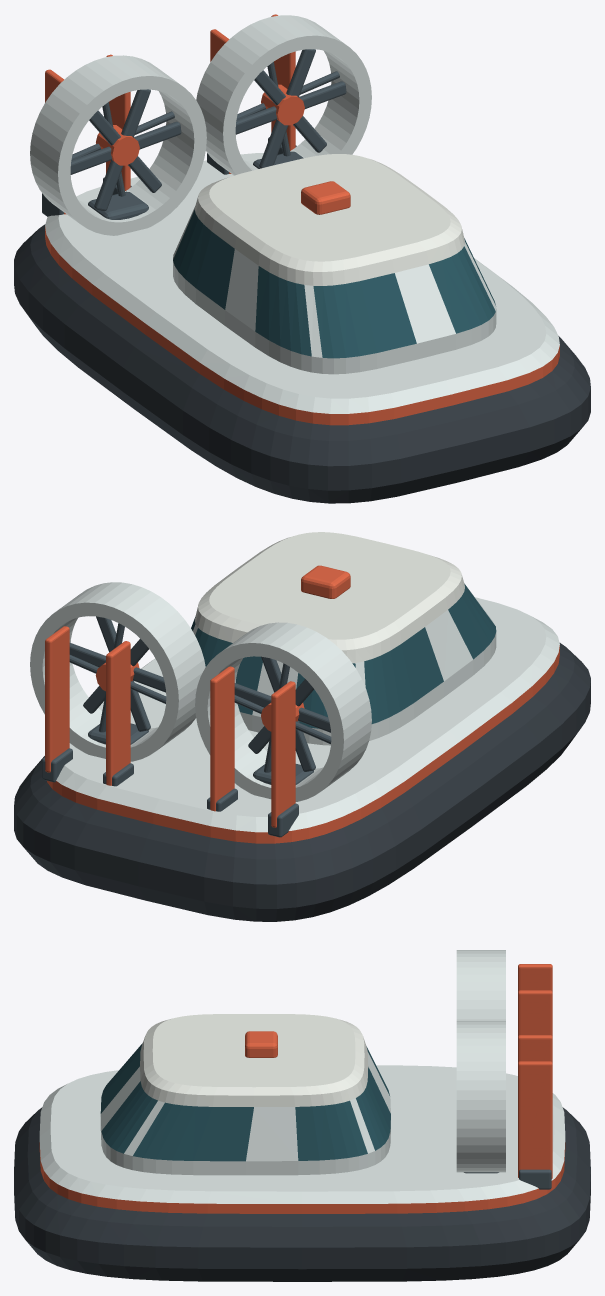
File: NEW_RECOVERY_120_LOD0.fbx
3 renders of one model, top to bottom at view 1: azimuth 30°, elevation 25°; view 2: azimuth 150°, elevation 25°; view 3: azimuth 270°, elevation 25°, orthographic. The views are drawn at different scales.
Parts seen in each view (by area): view 1: Hovercraft_complete_skin; view 2: Hovercraft_complete_skin; view 3: Hovercraft_complete_skin.
Part boxes in pixels (bbox=[...]): Hovercraft_complete_skin: bbox=[14, 14, 590, 503]; Hovercraft_complete_skin: bbox=[14, 532, 590, 921]; Hovercraft_complete_skin: bbox=[14, 950, 590, 1281].
Size of the model in its own units: 400 by 632 by 271.
